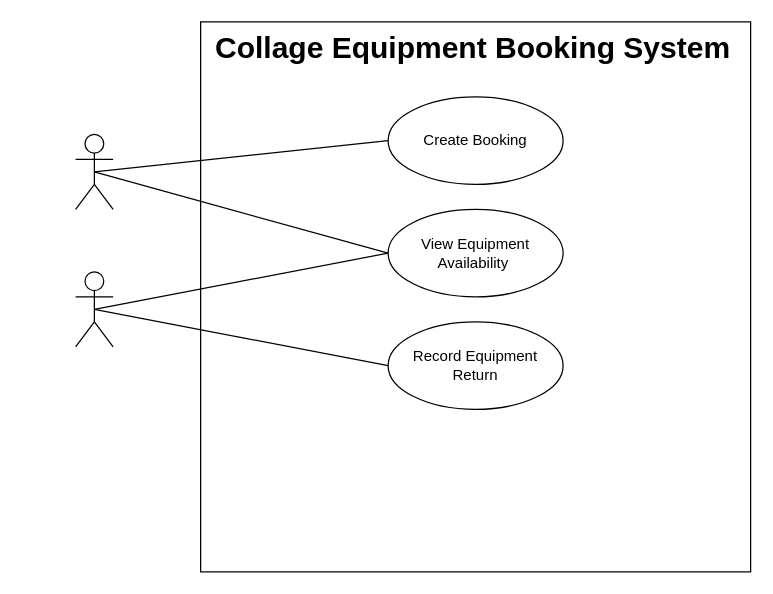
The diagram is 773 pixels wide and 594 high, and some of its shapes have lost their labels. Here are the shapes that lost their labels. From the top down, the centre of each, then its label:
the point at 93,171: Student
the point at 93,309: Equipment Technician
